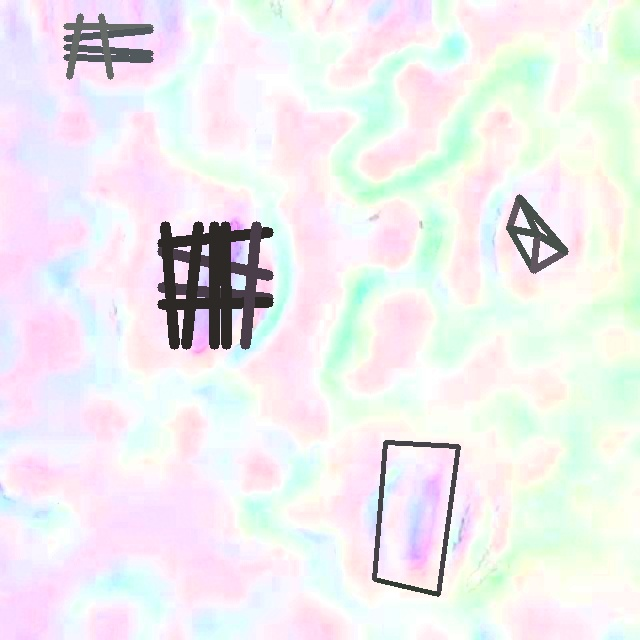close: (63, 13, 152, 78), (506, 194, 568, 273)
open: (158, 222, 273, 348), (373, 440, 460, 596)
